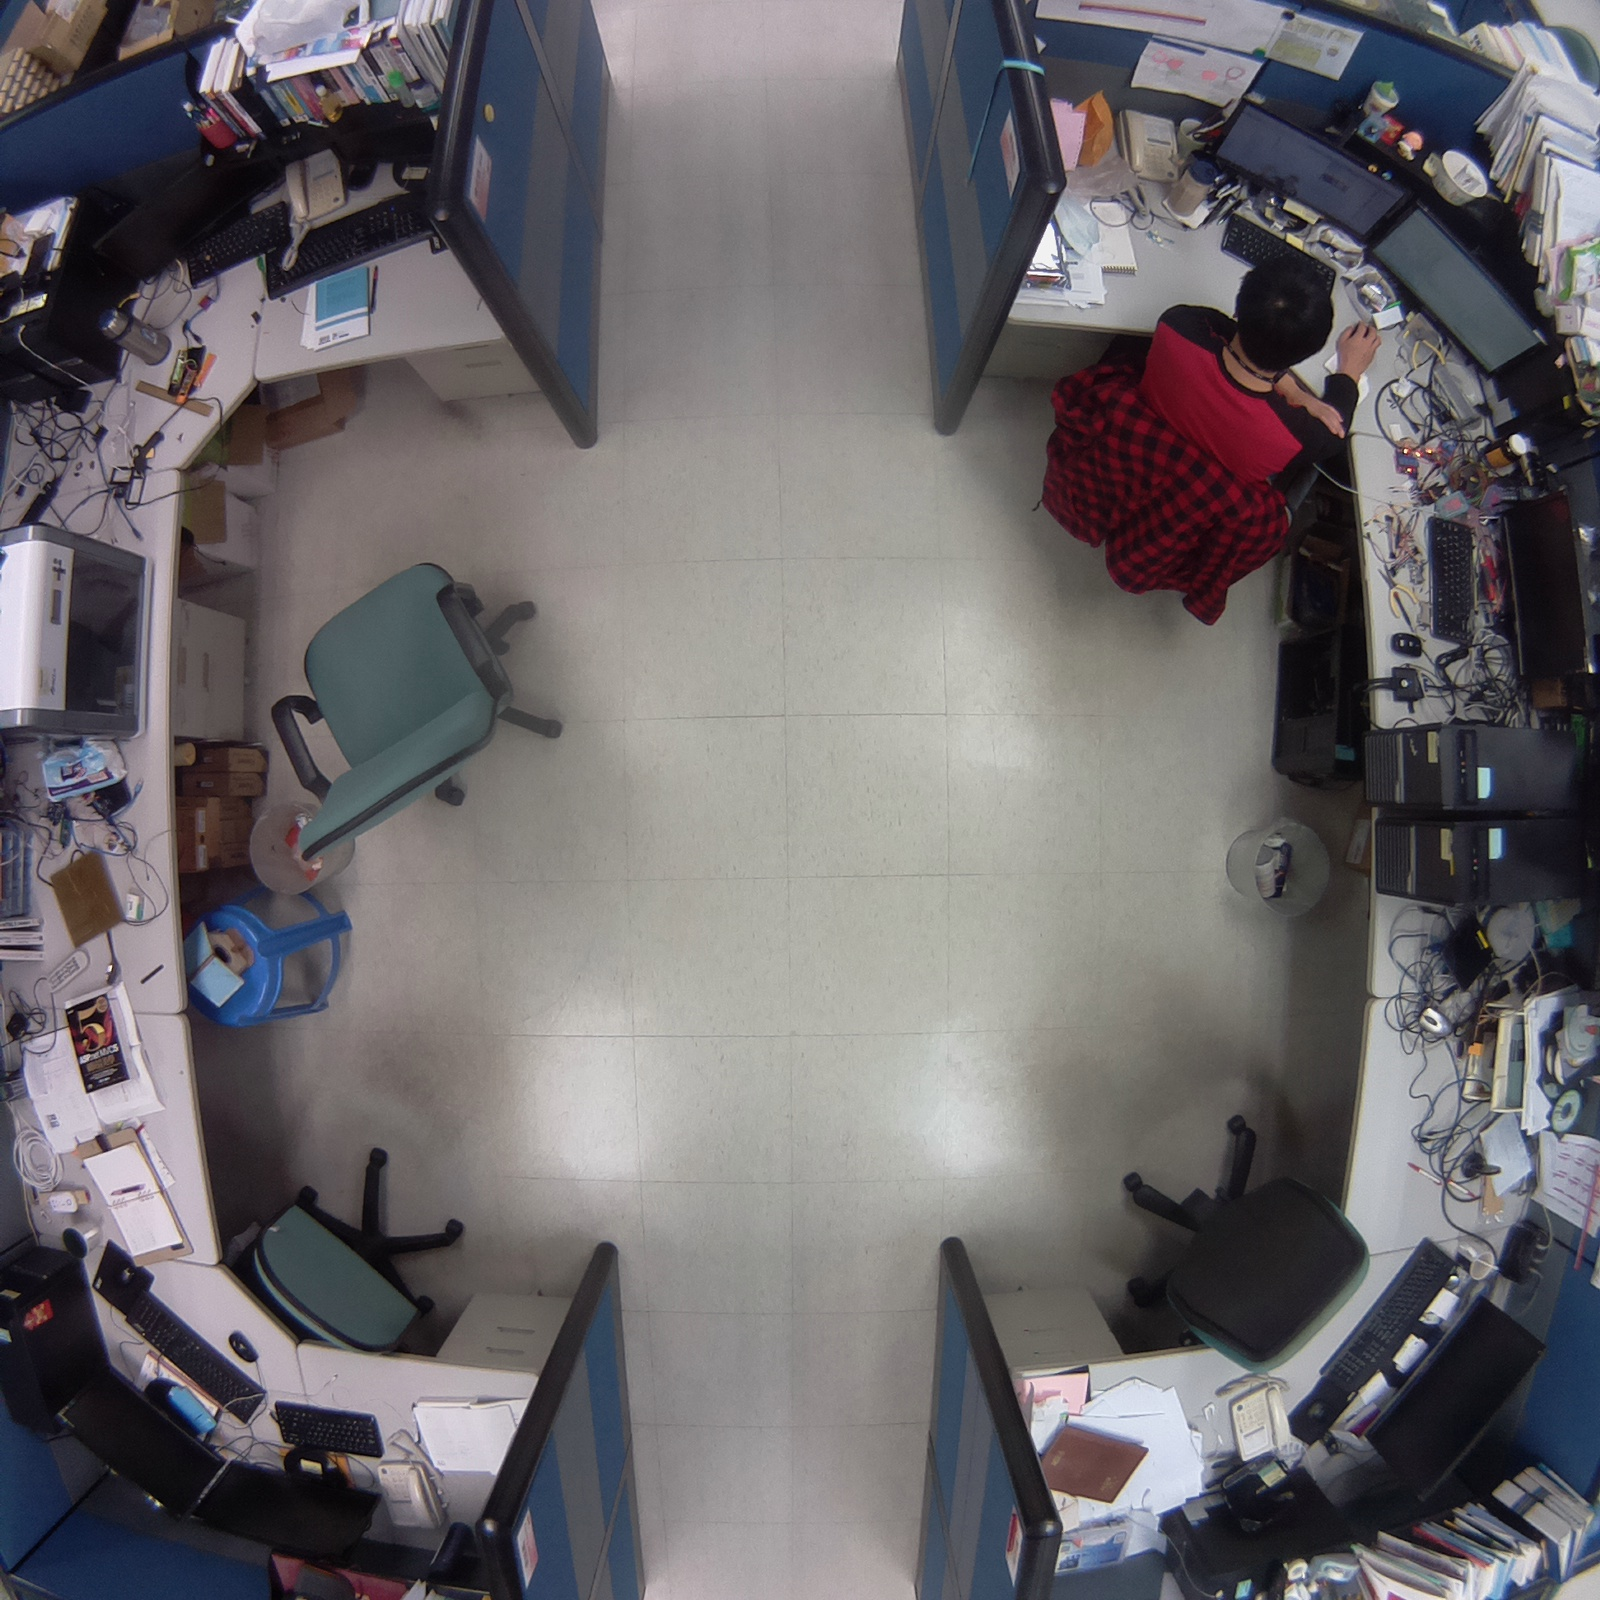chair: (267, 538, 582, 884), (1099, 1092, 1379, 1398), (212, 1118, 479, 1371)
sitting: (1023, 229, 1392, 637)
